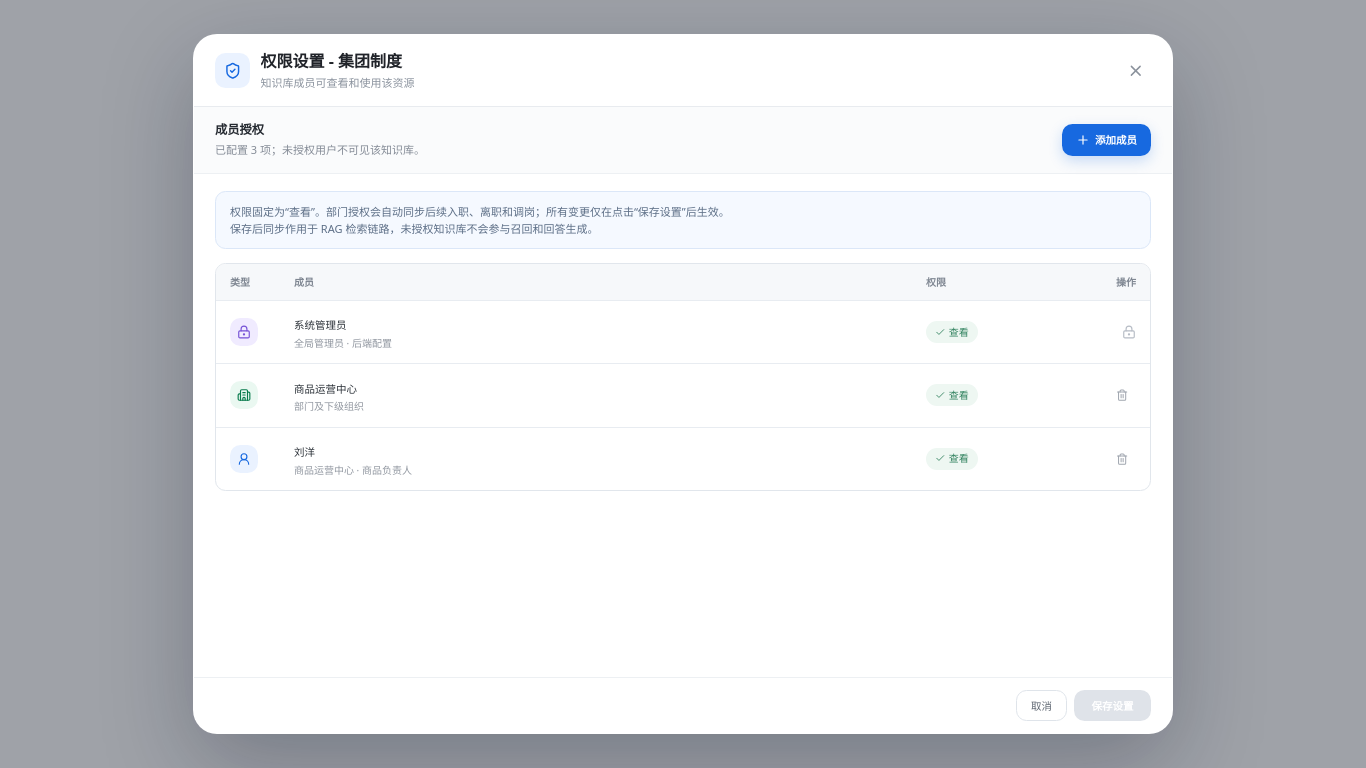
Scenario: ResourcePermissionDialog › keeps changes as a draft, deduplicates members, and saves the full permission list
Expected: the button with test id "permission-save" is disabled, [1074,690,1151,721]
Step 1. Click the button with test id "permission-add-member" → (1106, 140), box [1062,124,1151,156]
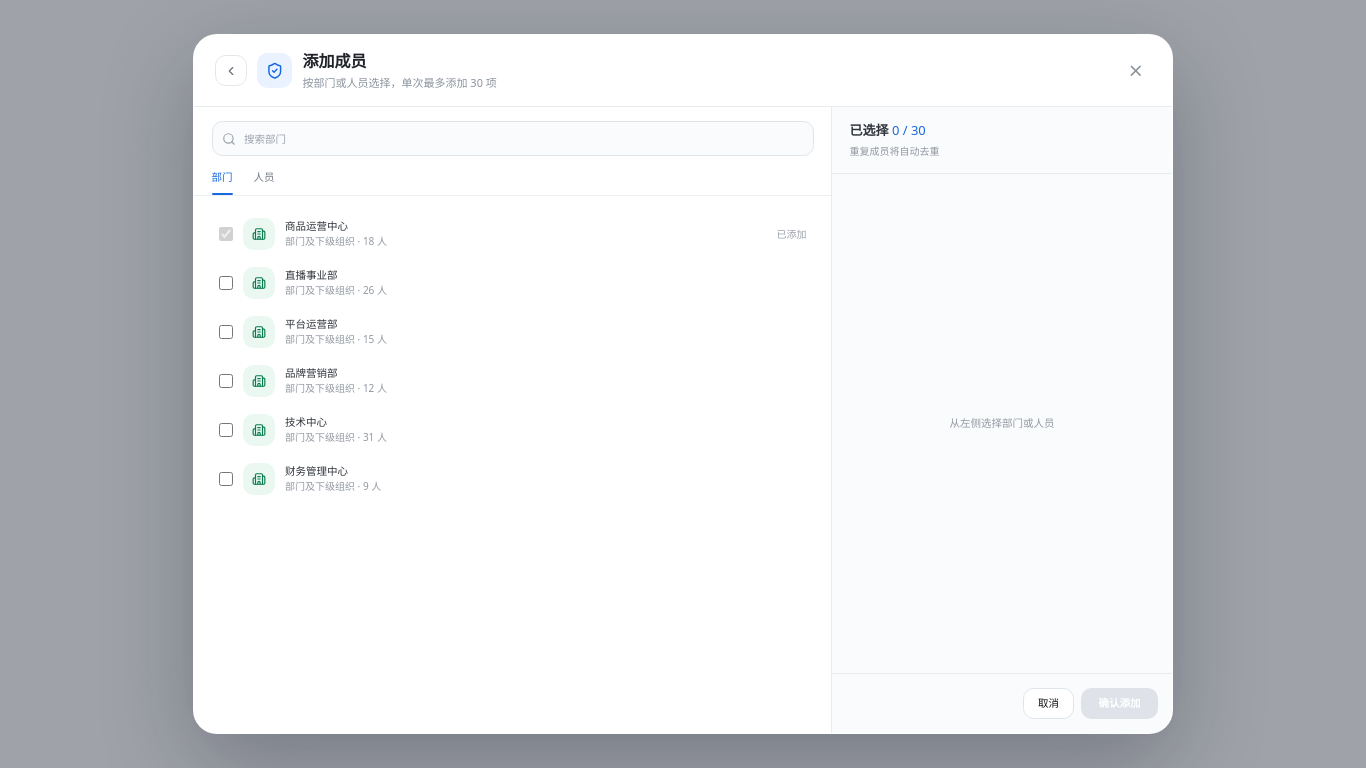
Step 2. Click the checkbox labelled "直播事业部 部门及下级组织 · 26 人" → (226, 283), box [218,276,232,290]
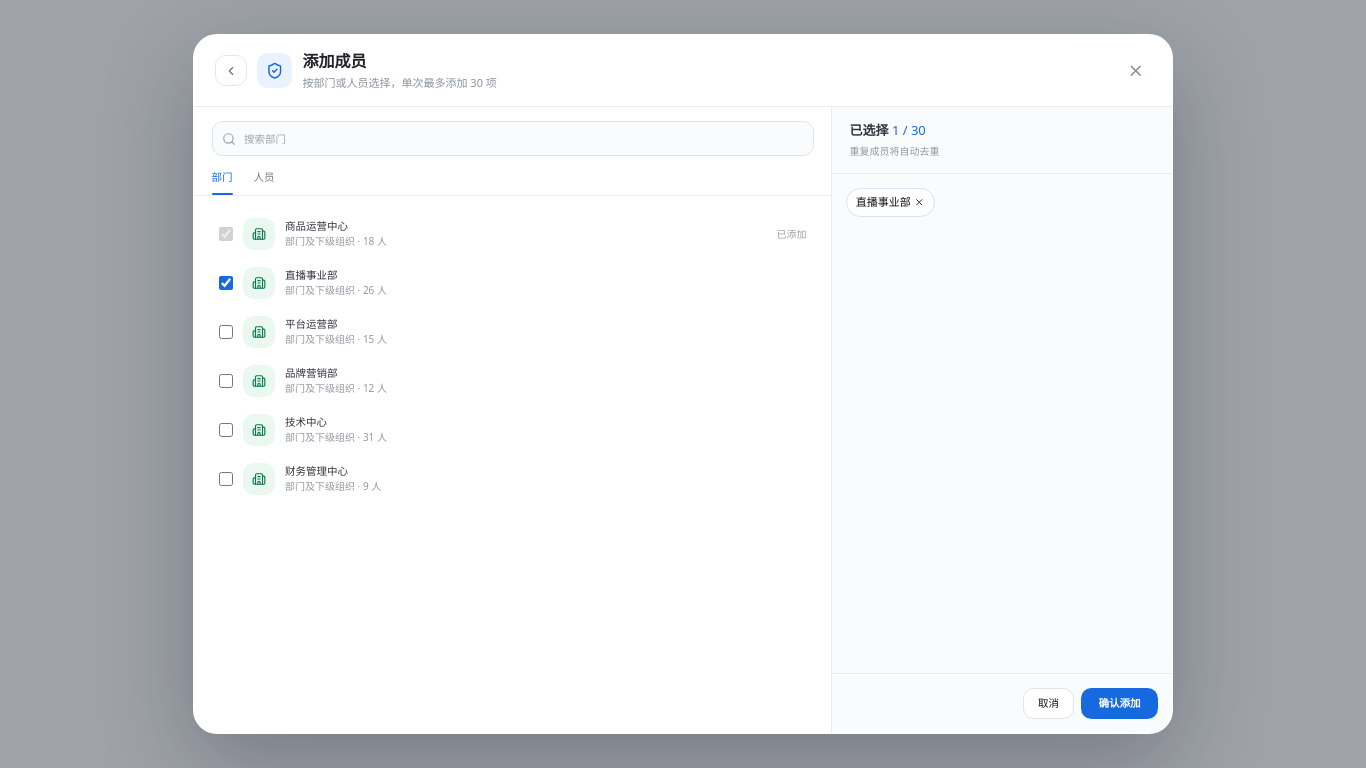
Step 3. Click the button "人员" → (264, 182), box [254,170,274,194]
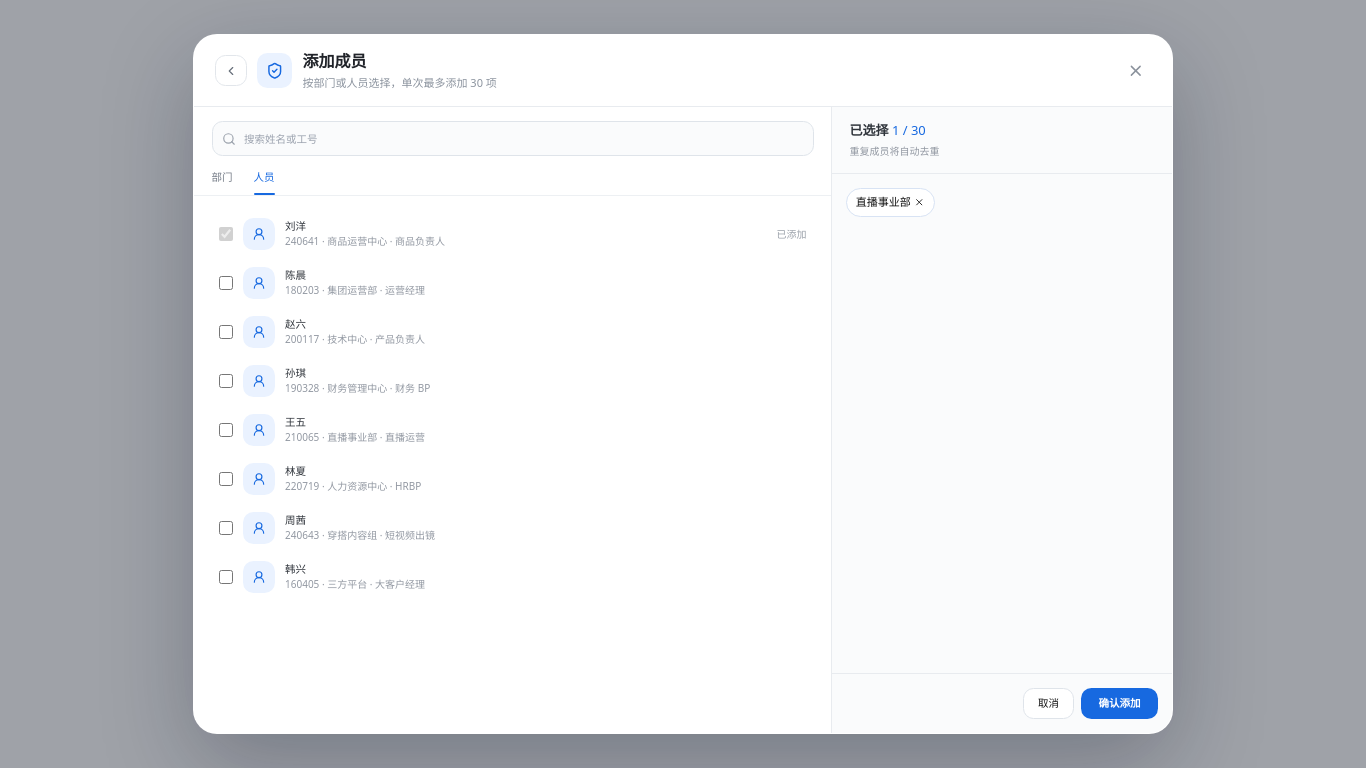
Step 4. Click the checkbox labelled "陈晨 180203 · 集团运营部 · 运营经理" → (226, 283), box [218,276,232,290]
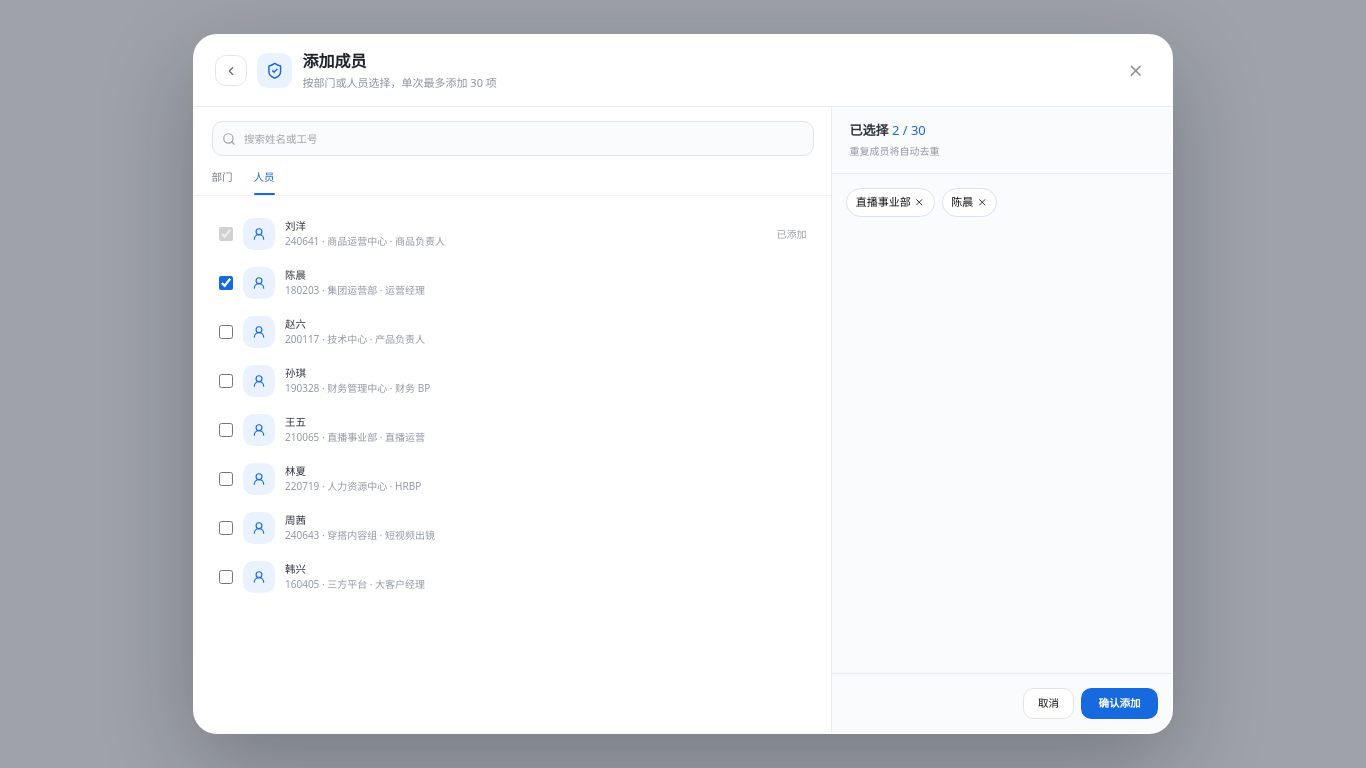
Step 5. Click the button with test id "permission-confirm-add" → (1120, 703), box [1081,688,1158,719]
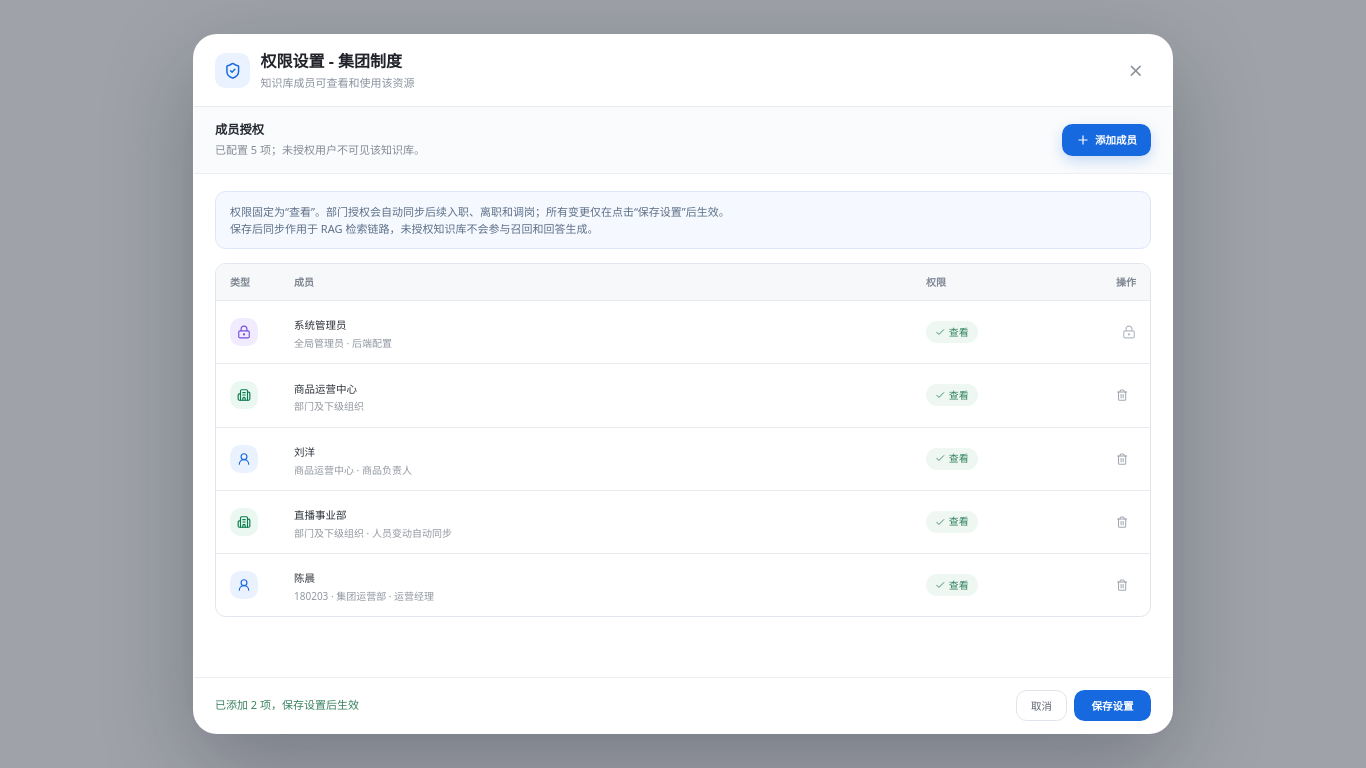
Expected: the text "直播事业部" is shown, [294,508,346,522]
Expected: the text "陈晨" is shown, [294,571,315,585]
Expected: the button with test id "permission-save" is enabled
Step 6. Click the button with test id "permission-save" → (1112, 706), box [1074,690,1151,721]
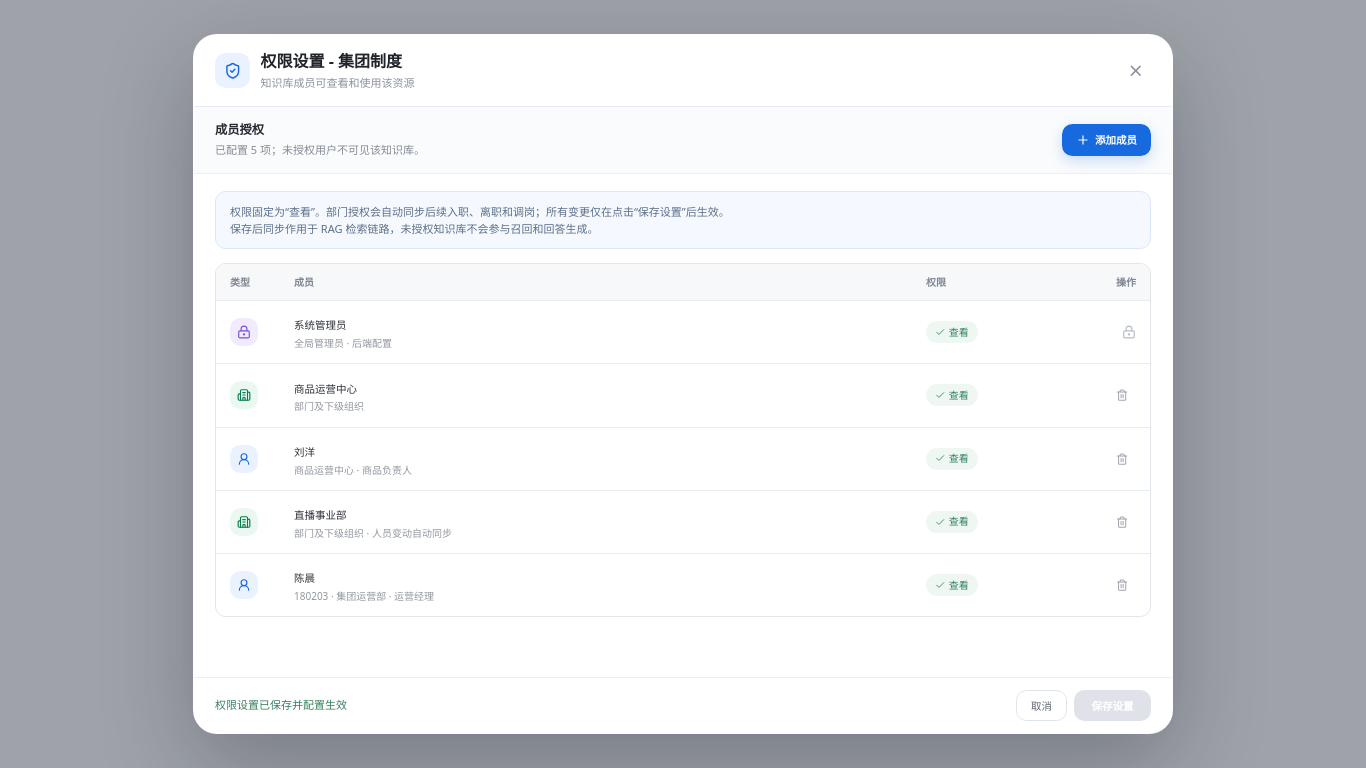
Expected: the text "权限设置已保存并配置生效" is shown, [215,697,347,714]
